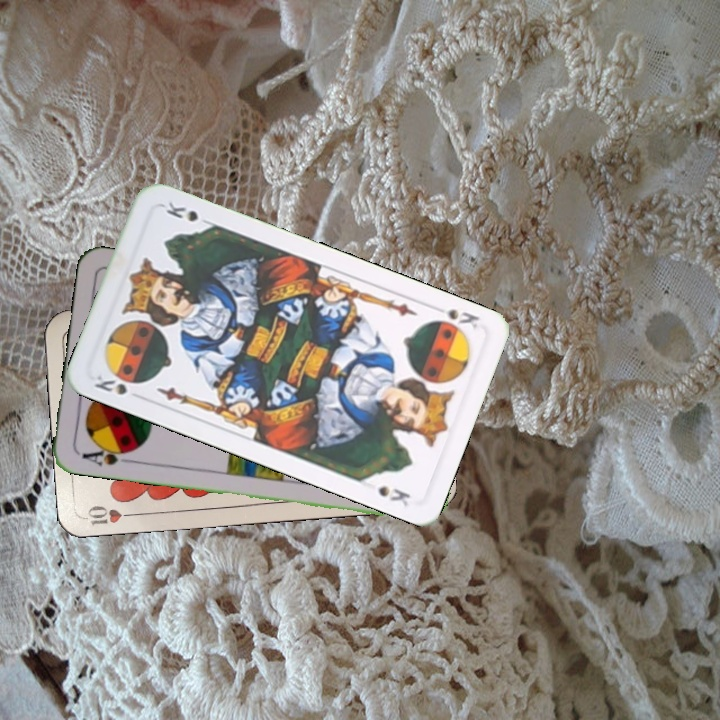H10: (82, 501, 141, 528)
SA: (78, 441, 137, 469)
SK: (427, 304, 482, 336), (90, 371, 146, 402)
